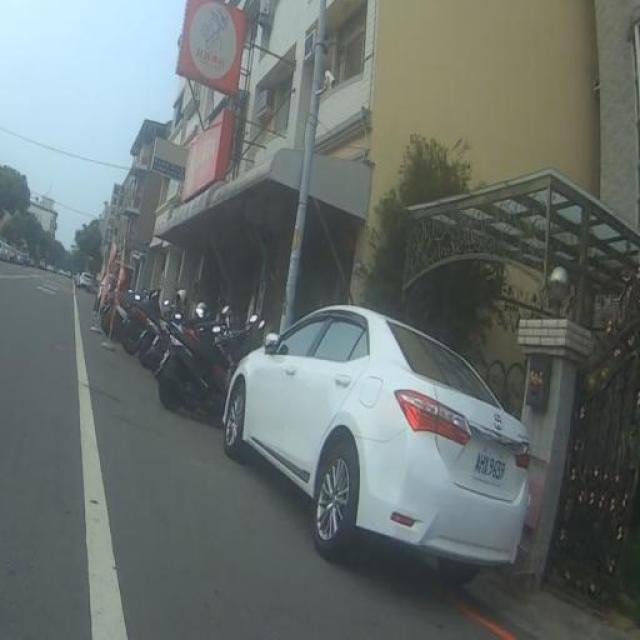Legalparking: (94, 247, 586, 592)
